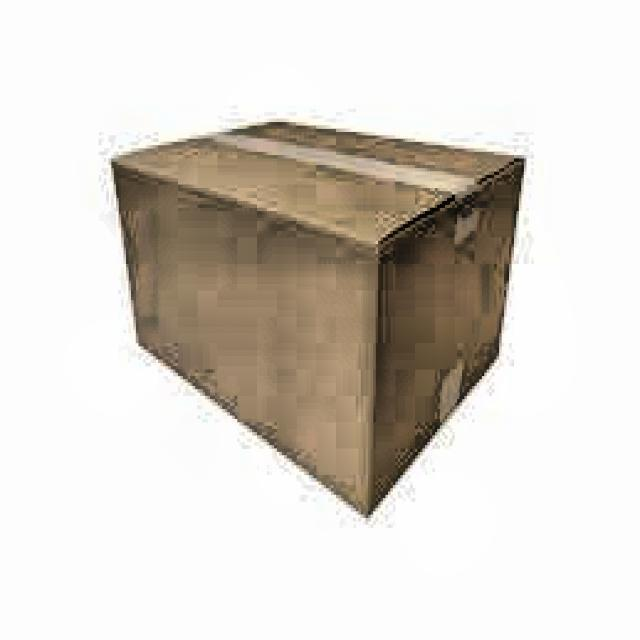cardboard: (109, 115, 526, 518)
